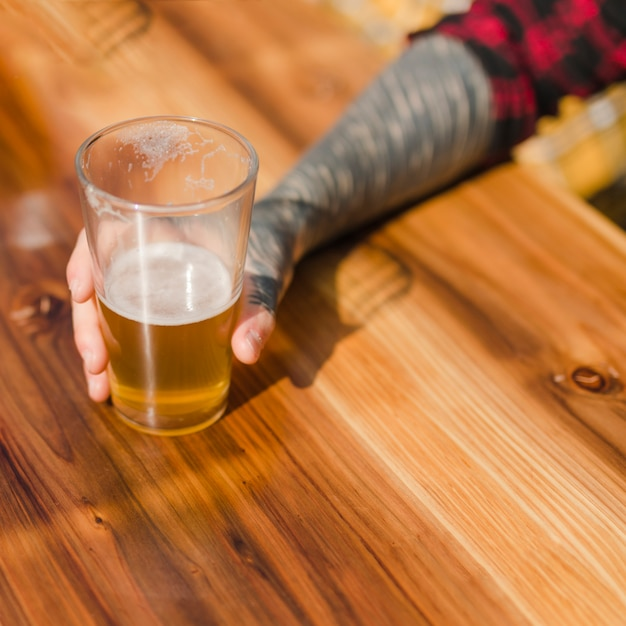alcohol: (73, 112, 259, 441)
